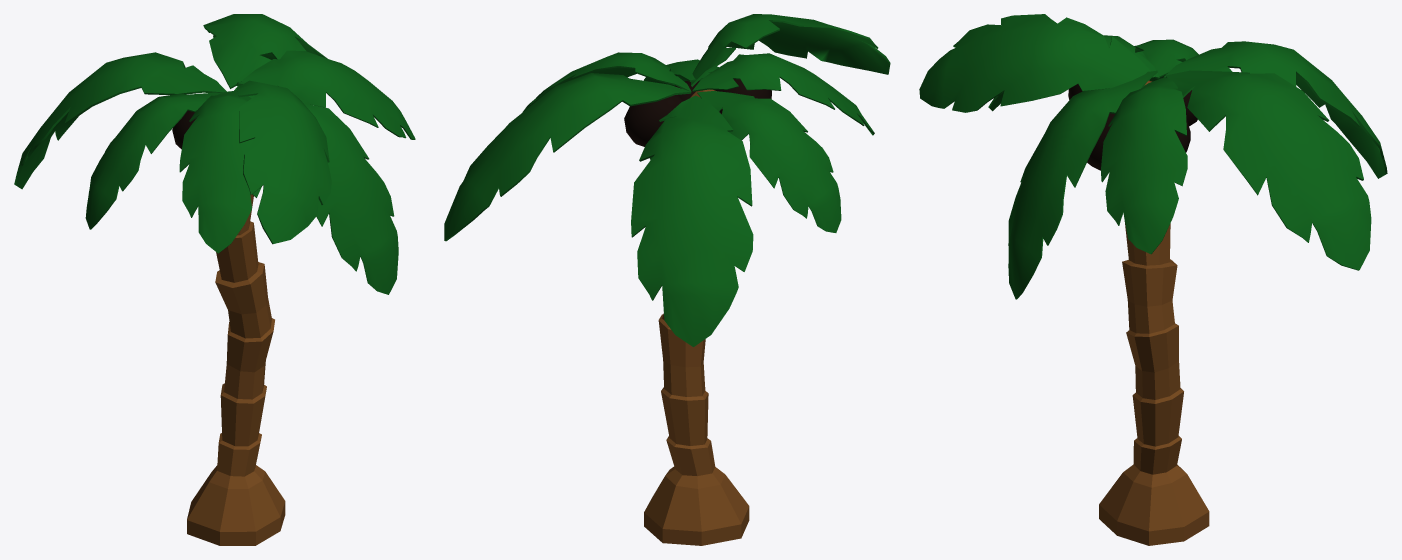
The model's file is SM_PalmTree_03.obj.
The picture shows the model from 3 angles, left to right: view 1: azimuth 30°, elevation 25°; view 2: azimuth 150°, elevation 25°; view 3: azimuth 270°, elevation 25°; orthographic projection. The views are drawn at different scales.
Parts seen in each view (by area): view 1: SM_PalmTree_03; view 2: SM_PalmTree_03; view 3: SM_PalmTree_03.
Boxes of the visible parts, left/top/right/bottom form: SM_PalmTree_03: left=14, top=14, right=415, bottom=545; SM_PalmTree_03: left=444, top=14, right=890, bottom=545; SM_PalmTree_03: left=919, top=14, right=1387, bottom=545.
Size of the model in its own units: 3.48 by 4.93 by 4.29.
